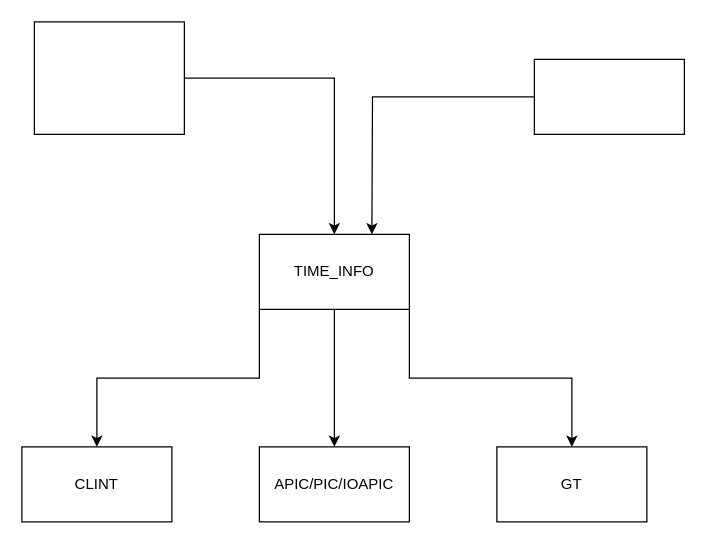
Some shapes in this 706 by 544 pixel diagram are drawn without their labels. The shapes that lost their labels are listed below. From the top down, each one's centre as x and y in pixels, then its label:
the point at 108,77: Scheduler context switch (on non MT mode), Also SoftwareTimer gets implemented.
the point at 608,96: Hook 2 system calls for timing purposes. (Wait, WaitUntil)
